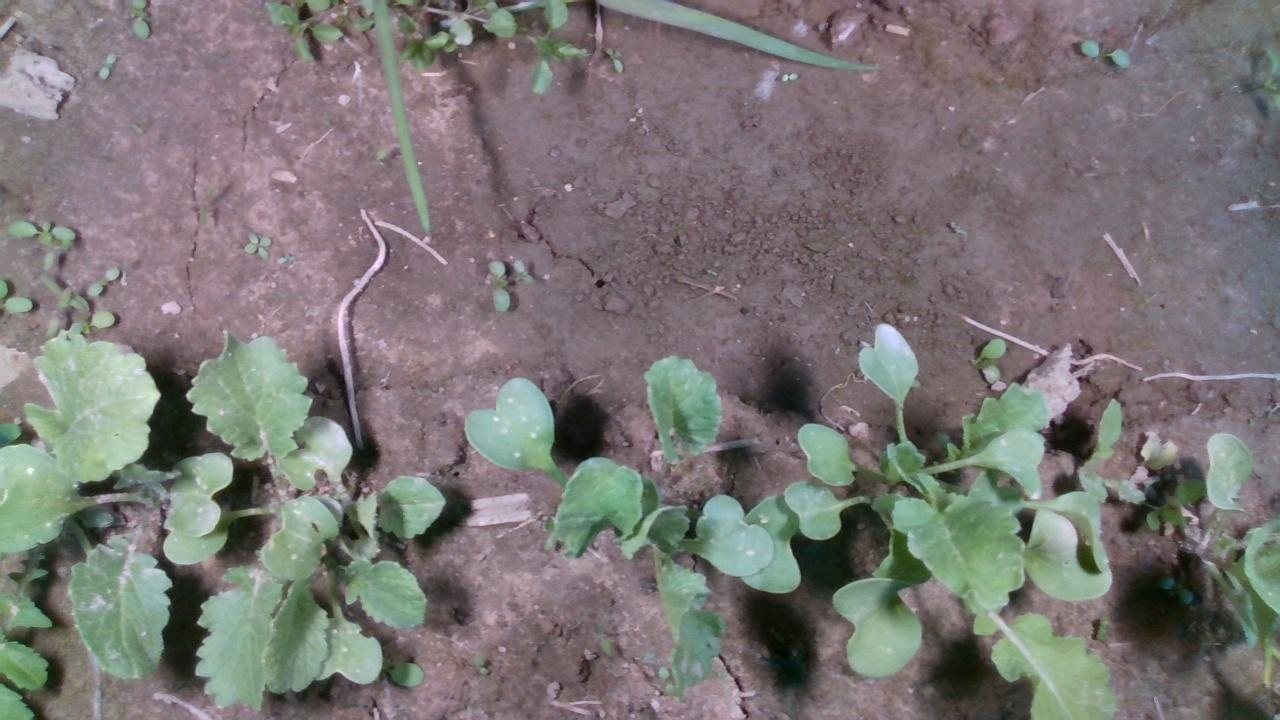weed: (5, 218, 77, 242), (1078, 38, 1131, 68), (487, 259, 510, 312), (85, 265, 120, 297), (241, 230, 271, 258), (97, 49, 117, 79), (511, 258, 533, 283), (602, 45, 623, 71), (779, 69, 798, 82)
